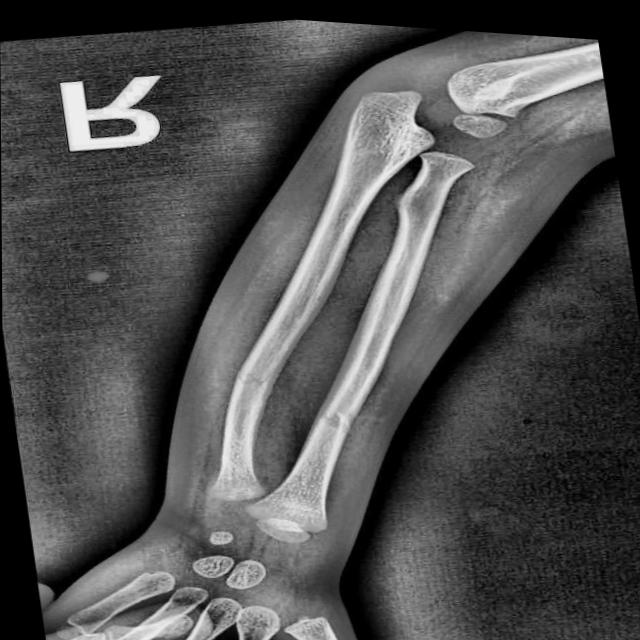fracture: (312, 394, 363, 435), (234, 360, 277, 391)
